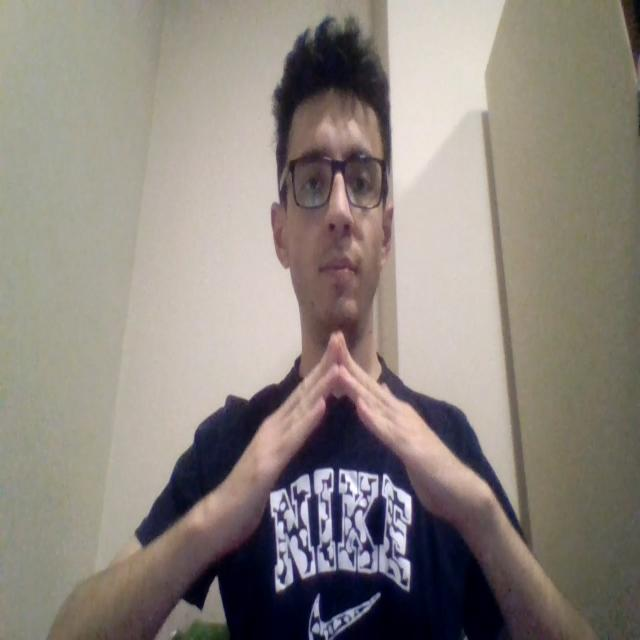house: (224, 331, 470, 528)
